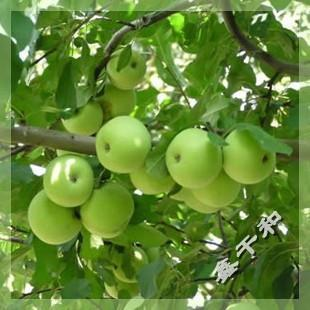apple: (165, 125, 224, 189), (94, 115, 153, 173), (28, 190, 84, 245), (80, 182, 136, 237), (223, 127, 276, 185), (43, 154, 94, 207), (103, 49, 149, 89)
